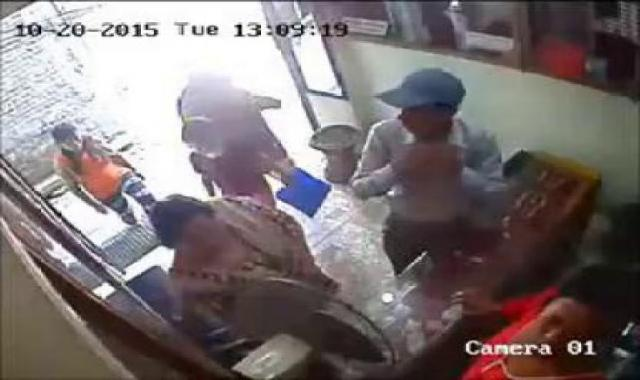no_hairnet: (377, 68, 478, 117), (153, 193, 212, 254)
